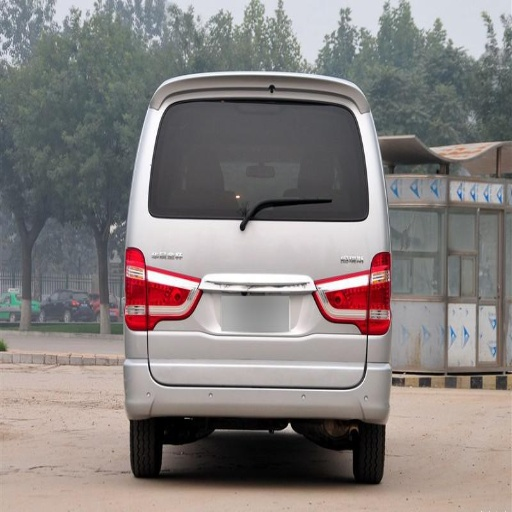back_bumper: (124, 329, 391, 418)
back_glass: (148, 125, 364, 217)
trunk: (140, 224, 373, 380)
